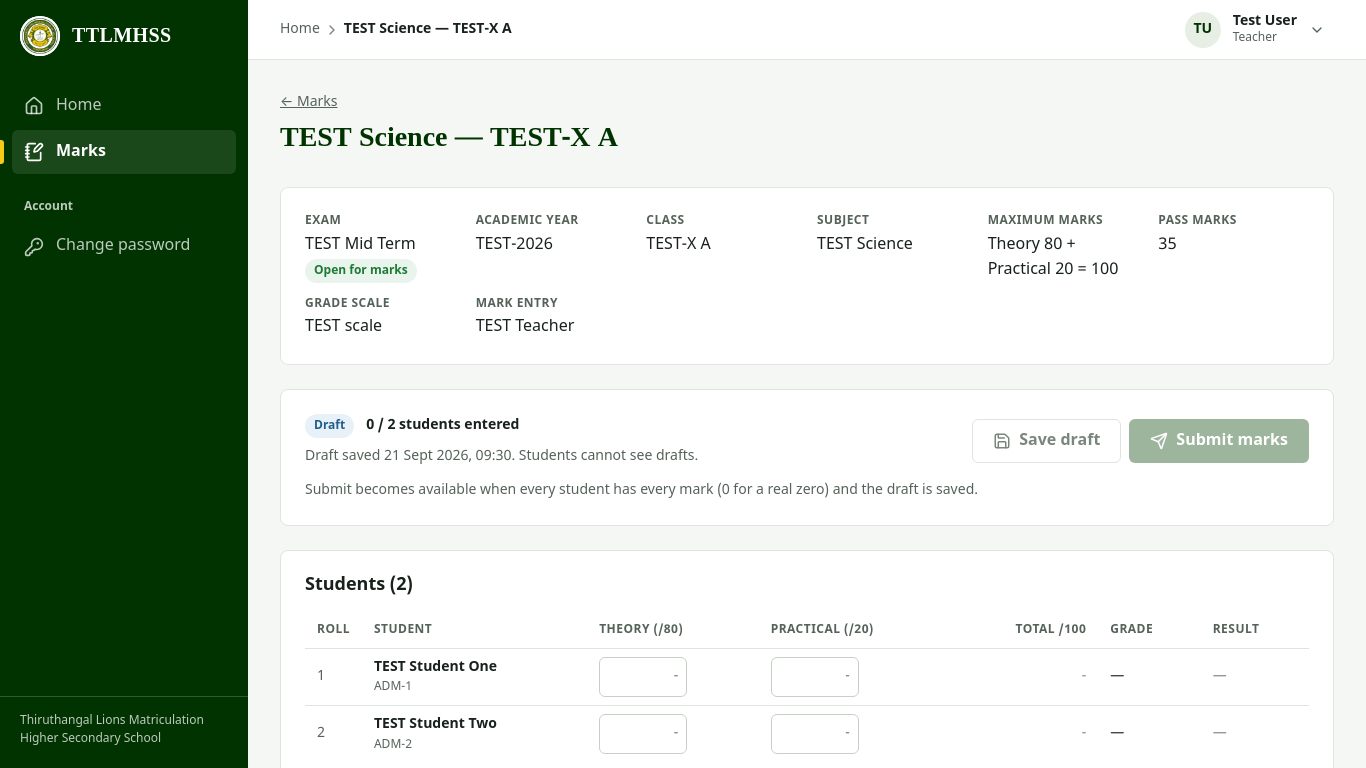
mark sheet › a stale save offers a reload
Type "40" into the field named "Theory for TEST Student Two (out of 80)" at (643, 734), box x1=599 y1=714 x2=687 y2=754
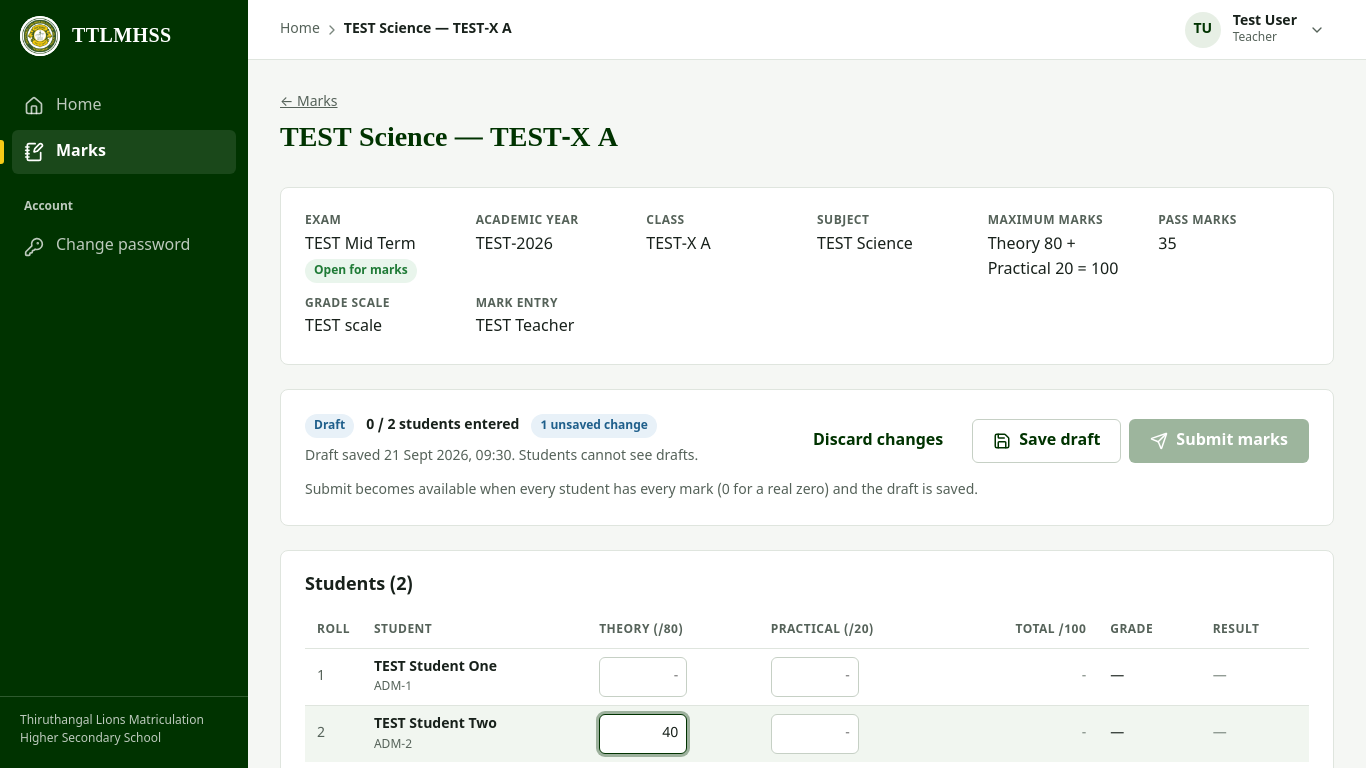
Click the button "Save draft" at (1047, 441), box x1=972 y1=419 x2=1121 y2=463
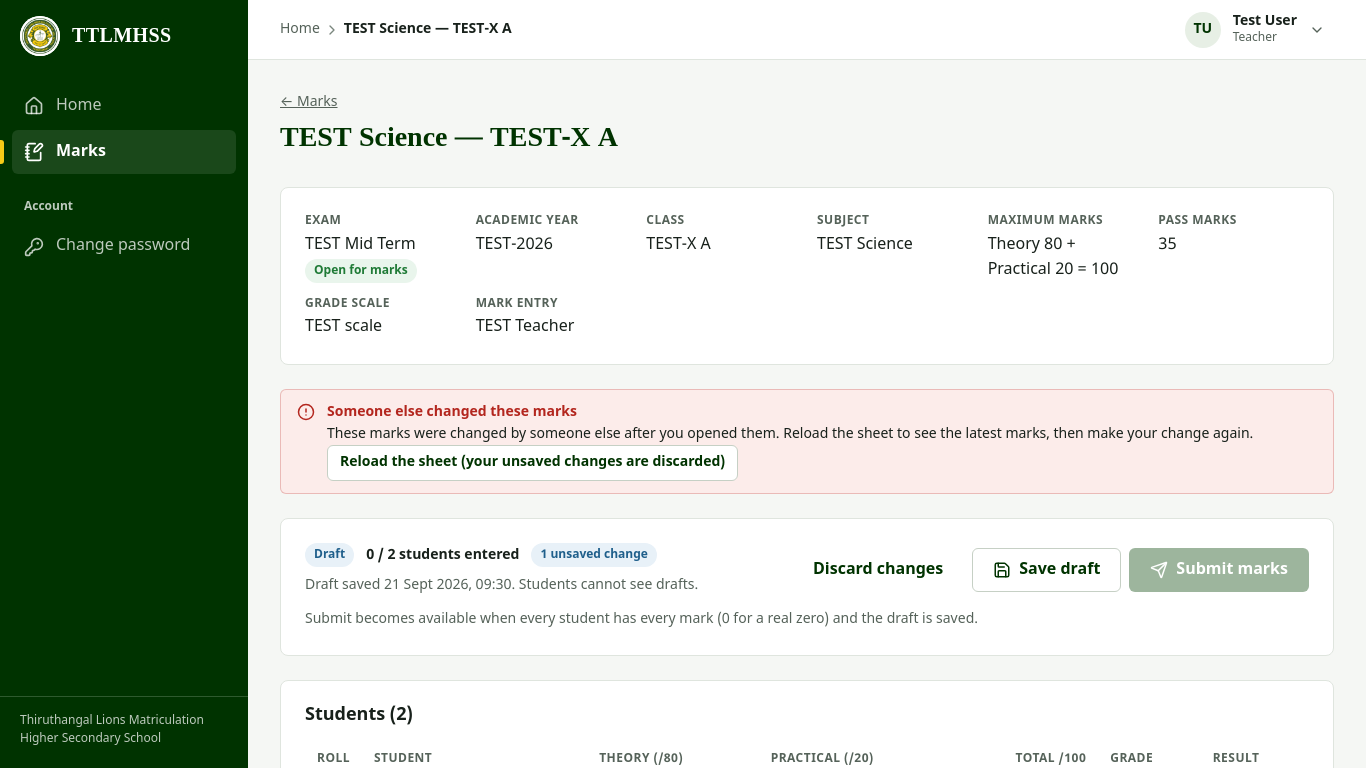
expect the text "Someone else changed these marks" is shown: met, box x1=327 y1=404 x2=577 y2=421
expect the button "Reload the sheet (your unsaved changes are discarded)" is shown: met, box x1=327 y1=445 x2=738 y2=481
